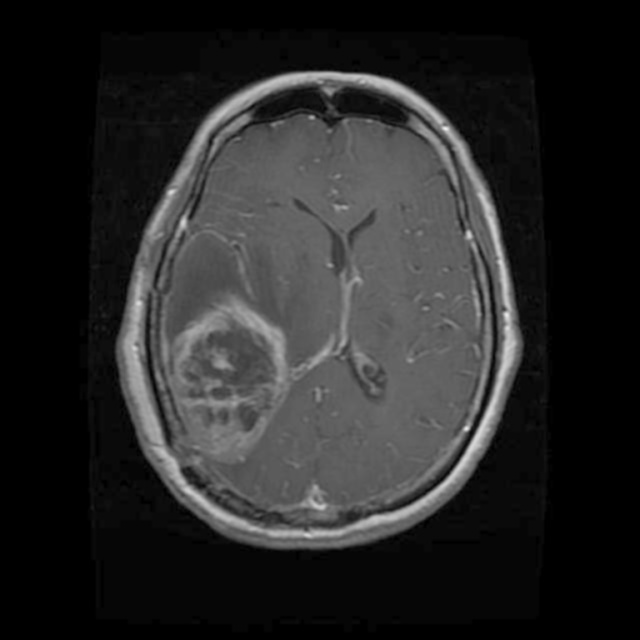pituitary tumor: (174, 296, 285, 462)
